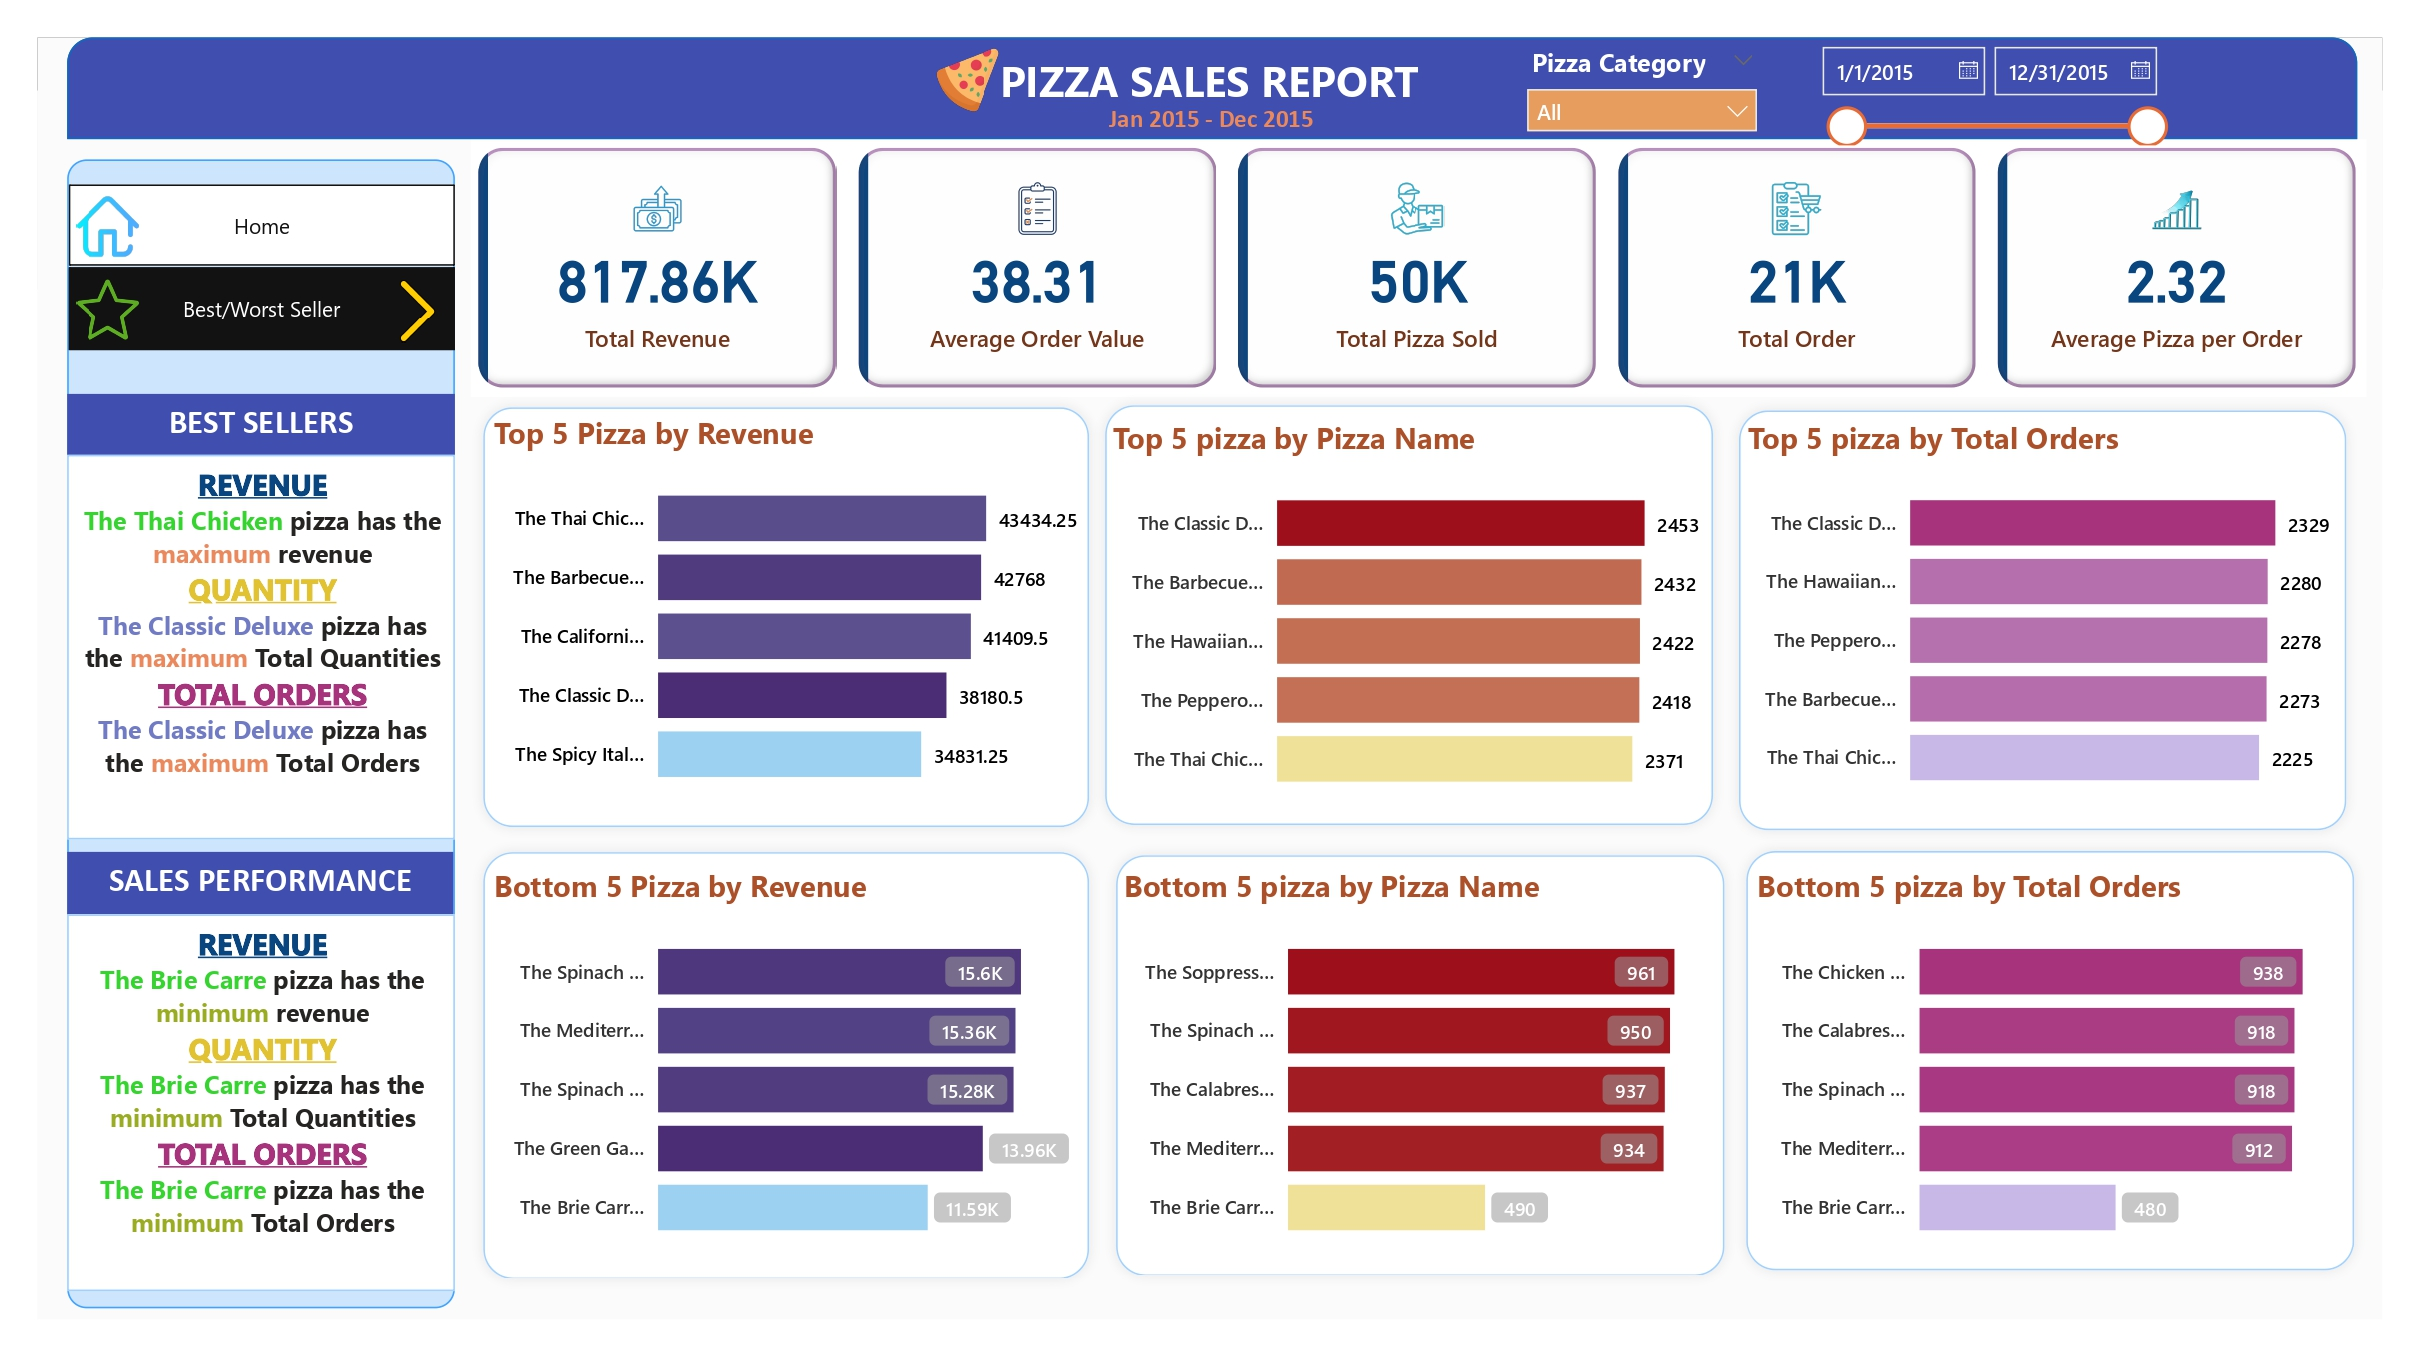

The dashboard page shown, as its layout file describes it:
{"tool":"powerbi","page":{"name":"Best/Worst Seller","canvas":[1500,820],"ordinal":1},"visuals":[{"type":"cardVisual","fields":{"Data":["pizza_sales.Total Revenue","pizza_sales.Average Order Value","pizza_sales.Total Pizza Sold","pizza_sales.Total Order","pizza_sales.Average Pizza per Order"]},"box":[277,65.4,1212.6,164.3],"z":0},{"type":"shape","box":[19.5,0,1464.6,65.4],"z":1000},{"type":"textbox","box":[601.4,4.2,296.5,58.5],"z":2000},{"type":"textbox","box":[666.7,36.7,168.3,45],"z":3000},{"type":"image","box":[556.9,1.4,75.2,51.5],"z":4000},{"type":"shape","box":[19.5,78,247.8,735.1],"z":5000},{"type":"textbox","box":[19.5,227.6,247.8,39],"z":6000},{"type":"textbox","box":[19.5,266.6,247.8,246.4],"z":7000},{"type":"textbox","box":[19.1,520.9,247,40],"z":8000},{"type":"textbox","box":[19.1,560.9,248.2,240.9],"z":9000},{"type":"slicer","title":"Pizza Category","fields":{"Values":["pizza_sales.pizza_category"]},"box":[942.9,0,167.1,61.4],"z":10000},{"type":"slicer","title":"Pizza Category","fields":{"Values":["pizza_sales.order_date"]},"box":[1128.6,0,242.9,68.6],"z":11000},{"type":"shape","box":[276.7,227.8,404.4,285.6],"z":12000},{"type":"shape","box":[276.7,513.3,404.4,288.9],"z":13000},{"type":"shape","box":[675,226.7,405,285],"z":14000},{"type":"shape","box":[1080,230,405,285],"z":15000},{"type":"shape","box":[681.7,515,405,285],"z":16000},{"type":"shape","box":[1085,511.7,405,285],"z":17000},{"type":"clusteredBarChart","title":"Top 5 Pizza by Revenue","fields":{"Category":["pizza_sales.pizza_name"],"Y":["pizza_sales.Total Revenue"]},"box":[287.1,240,387.1,254.3],"z":18000},{"type":"clusteredBarChart","title":"Top 5 pizza by Pizza Name","fields":{"Category":["pizza_sales.pizza_name"],"Y":["Sum(pizza_sales.quantity)"]},"box":[682.9,242.9,387.1,254.3],"z":19000},{"type":"clusteredBarChart","title":"Bottom 5 Pizza by Revenue","fields":{"Category":["pizza_sales.pizza_name"],"Y":["pizza_sales.Total Revenue"]},"box":[287.1,530,387.1,254.3],"z":20000},{"type":"clusteredBarChart","title":"Top 5 pizza by Total Orders","fields":{"Category":["pizza_sales.pizza_name"],"Y":["pizza_sales.Total Order"]},"box":[1088.8,242.5,386.2,253.8],"z":21000},{"type":"clusteredBarChart","title":"Bottom 5 pizza by Pizza Name","fields":{"Category":["pizza_sales.pizza_name"],"Y":["Sum(pizza_sales.quantity)"]},"box":[690,530,387.1,254.3],"z":22000},{"type":"clusteredBarChart","title":"Bottom 5 pizza by Total Orders","fields":{"Category":["pizza_sales.pizza_name"],"Y":["pizza_sales.Total Order"]},"box":[1095,530,386.2,253.8],"z":23000},{"type":"pageNavigator","box":[20,94.3,247.1,52.9],"z":24000},{"type":"pageNavigator","box":[20,146.8,247.4,53.2],"z":25000},{"type":"image","box":[218.2,147.6,49.4,52.9],"z":26000},{"type":"image","box":[20,94.6,50,52.3],"z":27000},{"type":"image","box":[20,147.7,50,52.3],"z":28000}]}

Visuals, with their boxes in screenshot pixels (x1, y1, x2, y2):
cardVisual - pizza_sales.Total Revenue x pizza_sales.Average Order Value: 471, 140, 2366, 397
shape: 68, 38, 2358, 140
textbox: 978, 44, 1441, 136
textbox: 1080, 95, 1343, 165
image: 908, 40, 1026, 120
shape: 68, 159, 455, 1309
textbox: 68, 393, 455, 454
textbox: 68, 454, 455, 840
textbox: 67, 852, 454, 914
textbox: 67, 914, 455, 1291
"Pizza Category" slicer: 1512, 38, 1773, 134
"Pizza Category" slicer: 1802, 38, 2182, 145
shape: 470, 394, 1102, 840
shape: 470, 840, 1102, 1292
shape: 1093, 392, 1726, 837
shape: 1726, 397, 2359, 843
shape: 1103, 843, 1736, 1288
shape: 1734, 837, 2367, 1283
"Top 5 Pizza by Revenue" clusteredBarChart: 486, 413, 1092, 810
"Top 5 pizza by Pizza Name" clusteredBarChart: 1105, 417, 1710, 815
"Bottom 5 Pizza by Revenue" clusteredBarChart: 486, 866, 1092, 1264
"Top 5 pizza by Total Orders" clusteredBarChart: 1740, 417, 2343, 813
"Bottom 5 pizza by Pizza Name" clusteredBarChart: 1116, 866, 1721, 1264
"Bottom 5 pizza by Total Orders" clusteredBarChart: 1749, 866, 2353, 1263
pageNavigator: 69, 185, 455, 268
pageNavigator: 69, 267, 456, 350
image: 379, 268, 456, 351
image: 69, 185, 147, 267
image: 69, 268, 147, 350
